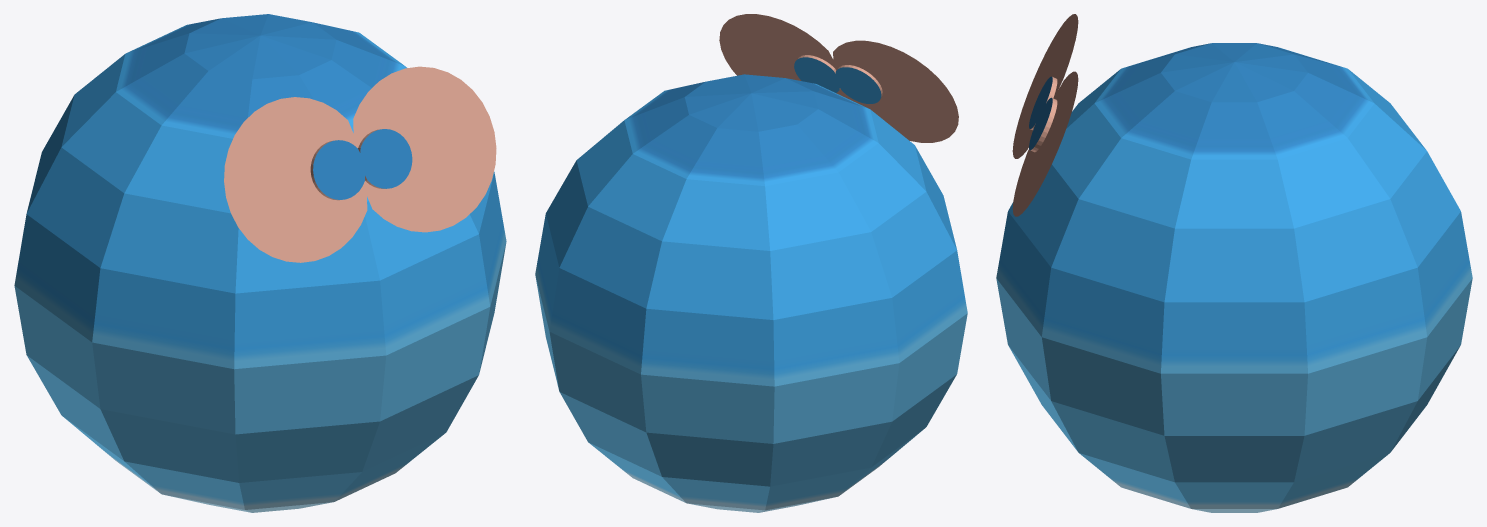
Rendered from PBJr.fbx.
3 renders of one model, left to right at view 1: azimuth 30°, elevation 25°; view 2: azimuth 150°, elevation 25°; view 3: azimuth 270°, elevation 25°, orthographic. The views are drawn at different scales.
Parts seen in each view (by area): view 1: Body, Eyes; view 2: Body, Eyes; view 3: Body, Eyes.
Boxes of the visible parts, x1,y1,x2,y2 form: Body: (14, 14, 506, 512); Eyes: (224, 66, 496, 262); Body: (535, 74, 967, 512); Eyes: (719, 14, 958, 142); Body: (996, 43, 1472, 512); Eyes: (1012, 14, 1078, 216).
Size of the model in its own units: 190 by 205 by 200.
